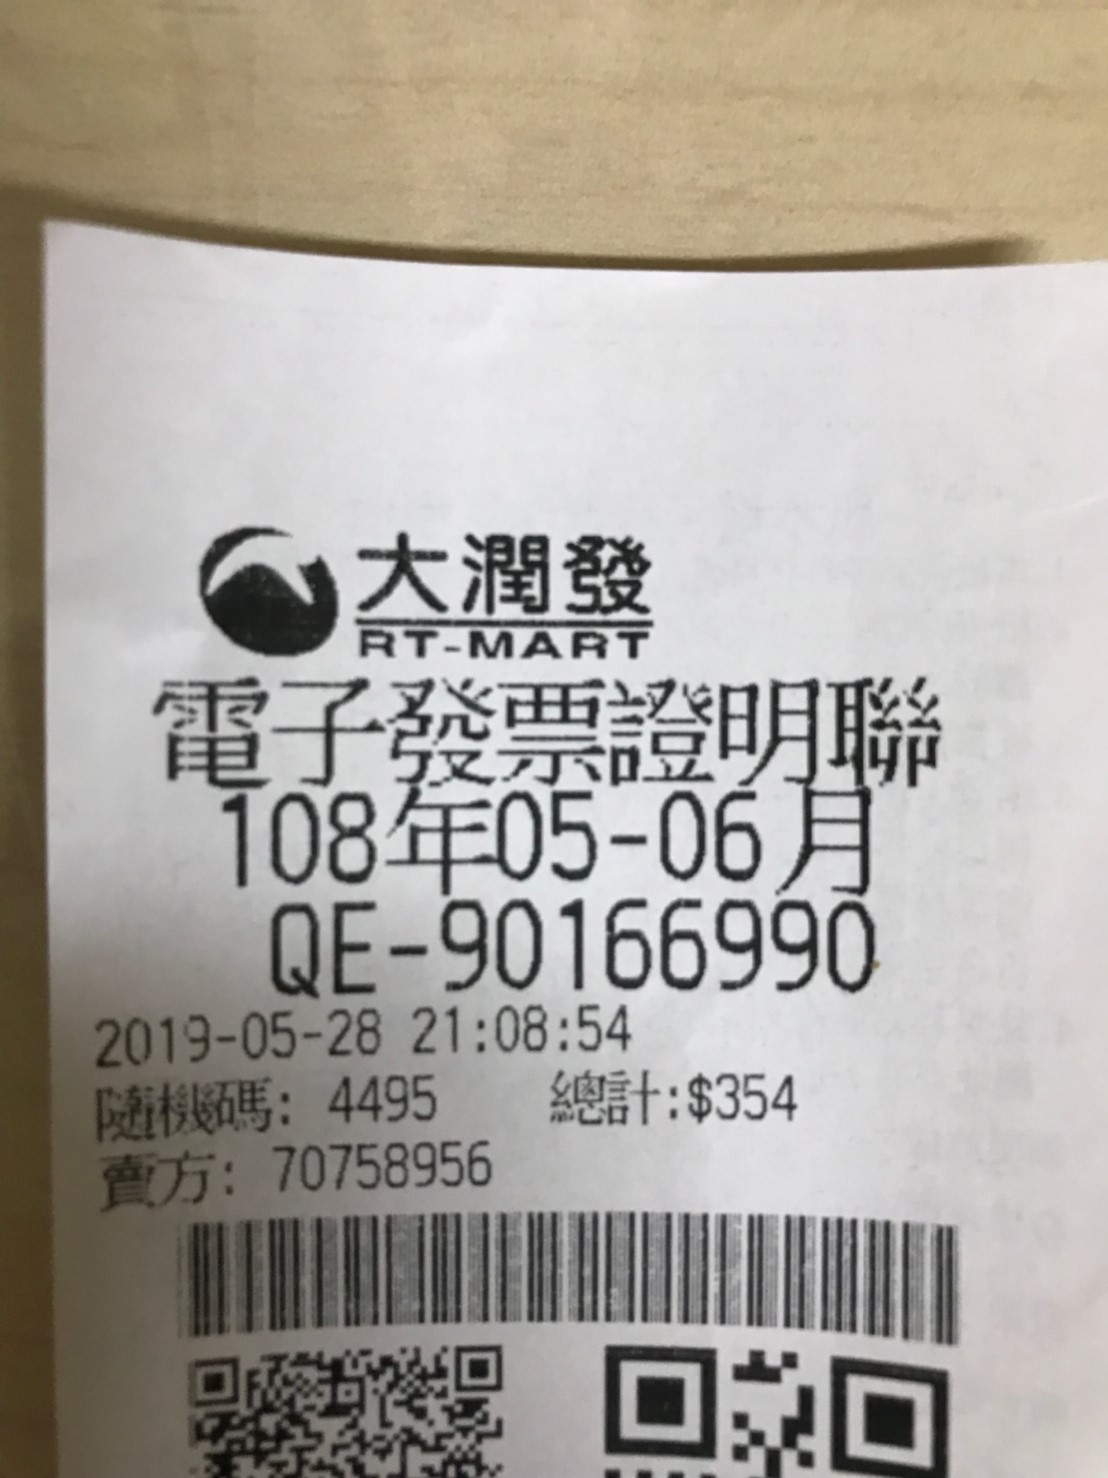Date_New: (218, 788, 876, 893)
Number_New: (434, 894, 882, 992)
